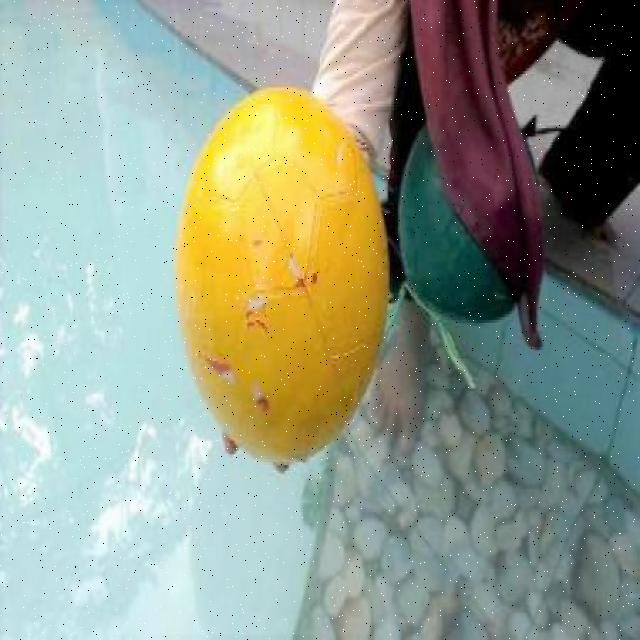buoy: (174, 83, 389, 464)
